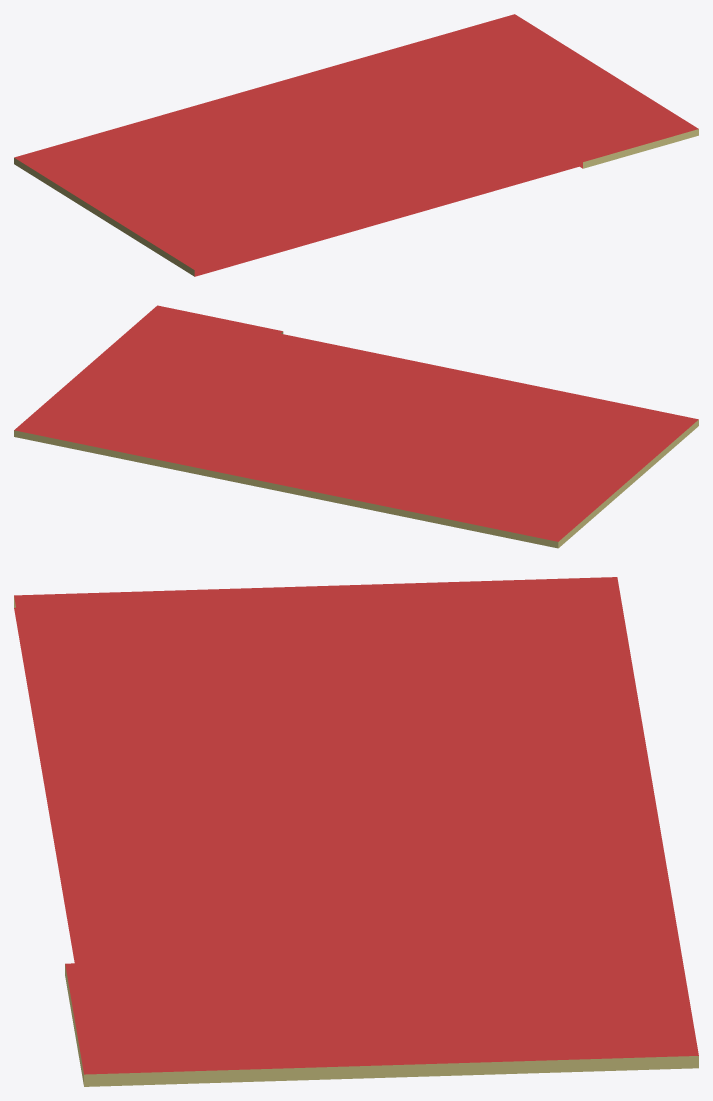
3 views of the same model, one above another, from view 1: azimuth 30°, elevation 25°; view 2: azimuth 150°, elevation 25°; view 3: azimuth 270°, elevation 25° (orthographic). The views are drawn at different scales.
Size of the model in its own units: 8.58 by 4.99 by 0.1.
